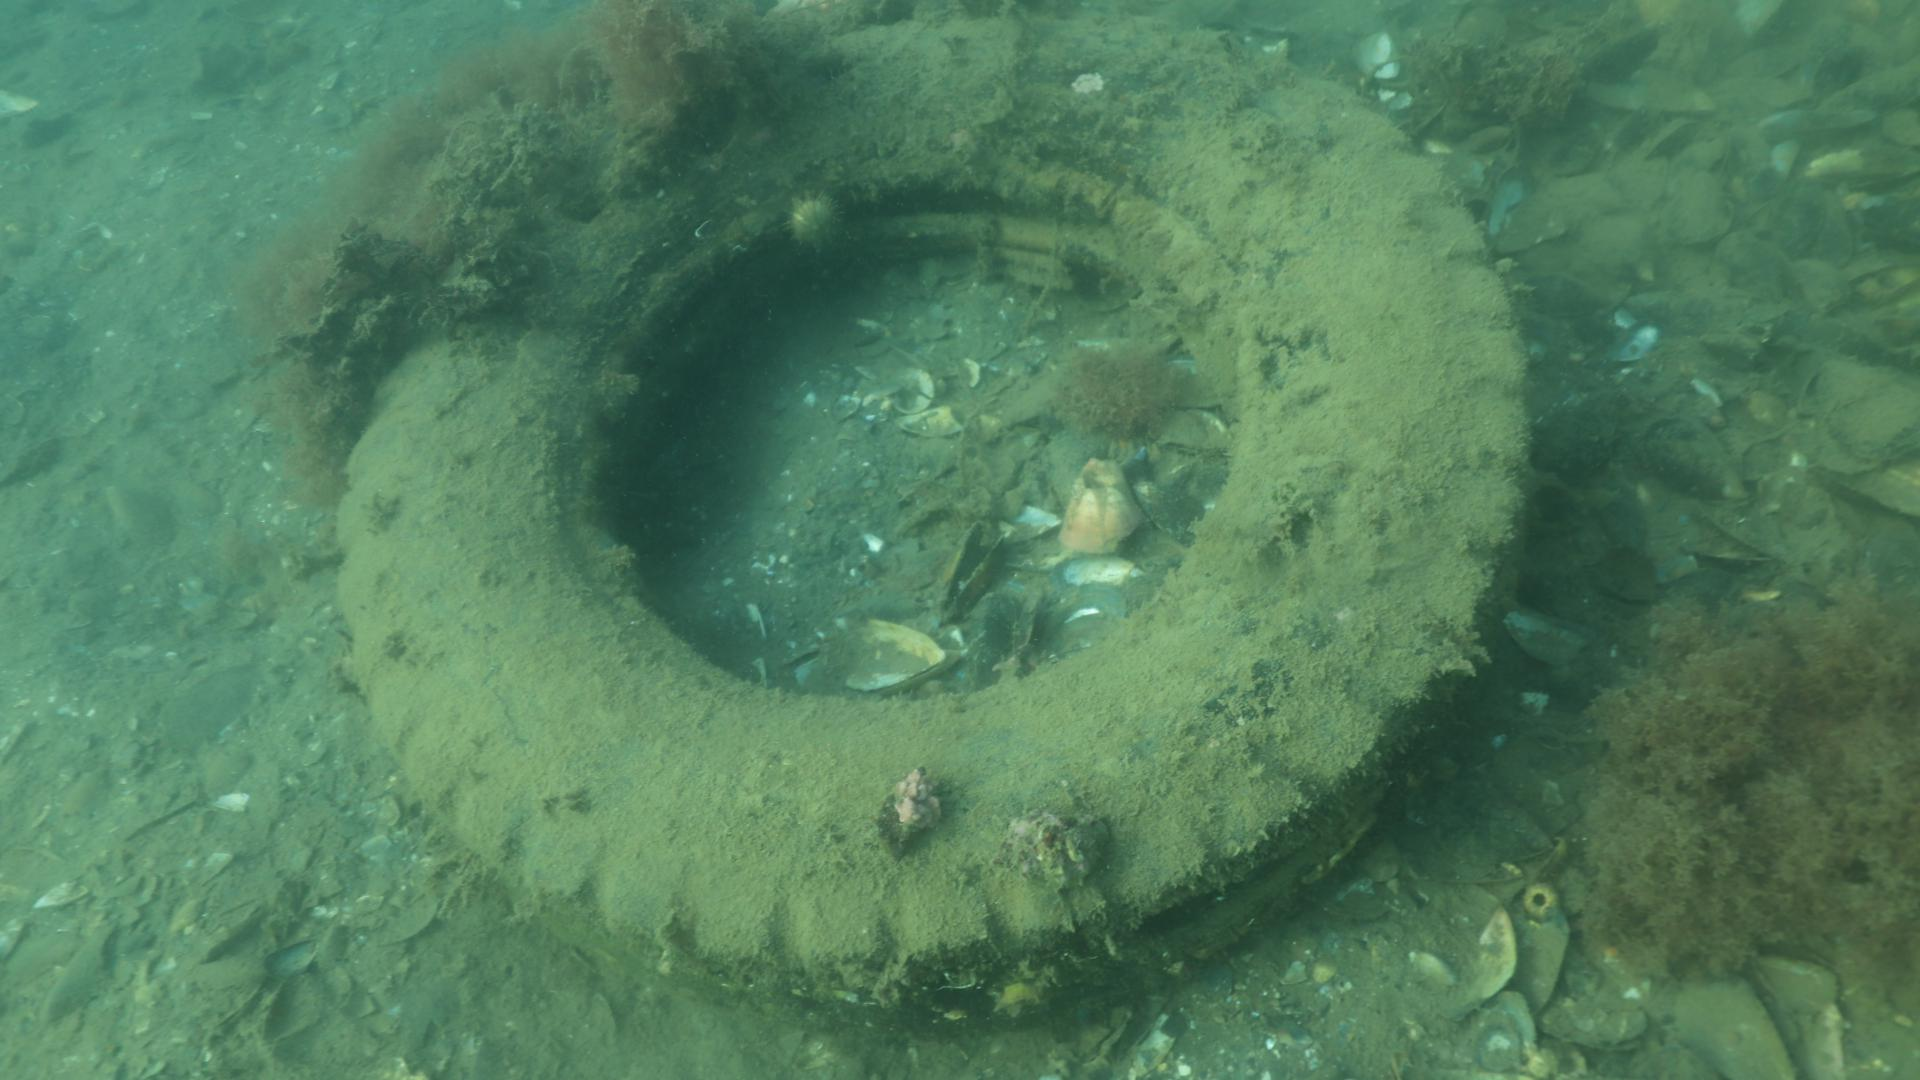tire: (334, 15, 1534, 1035)
